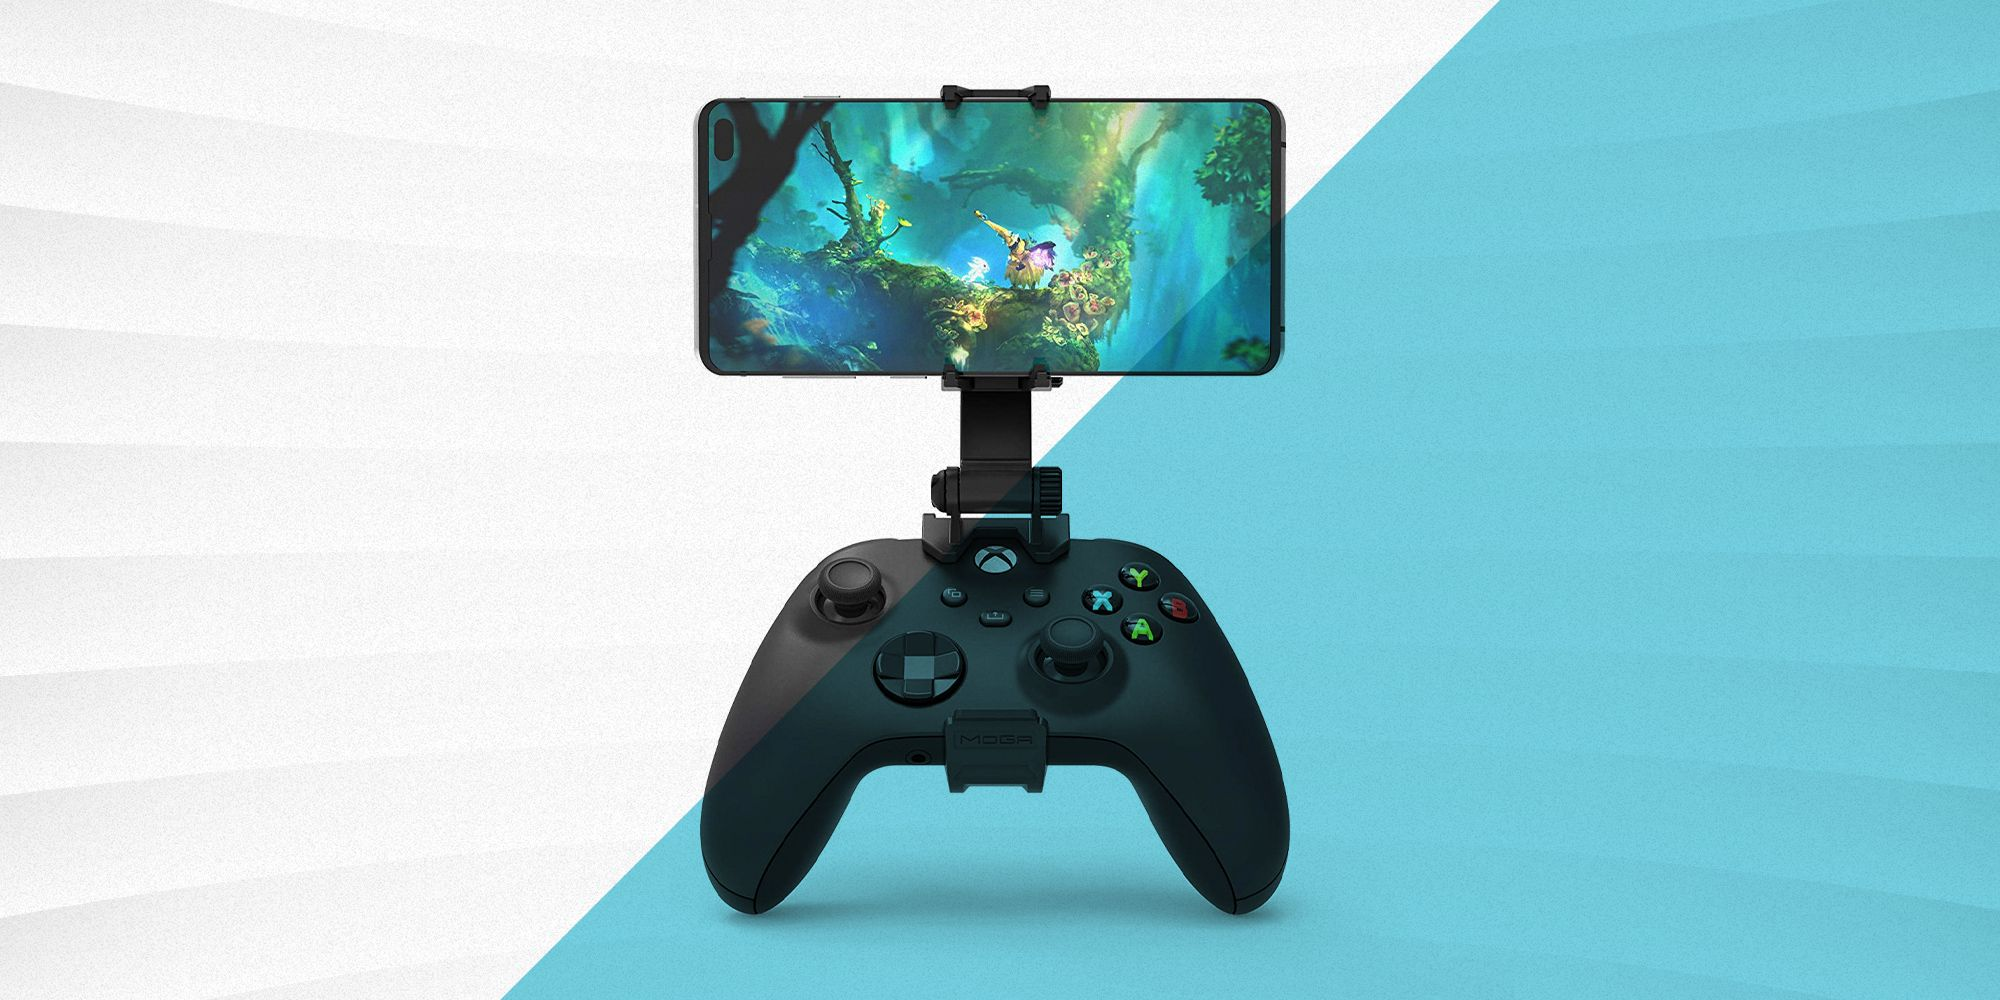controller: (698, 537, 1295, 916)
